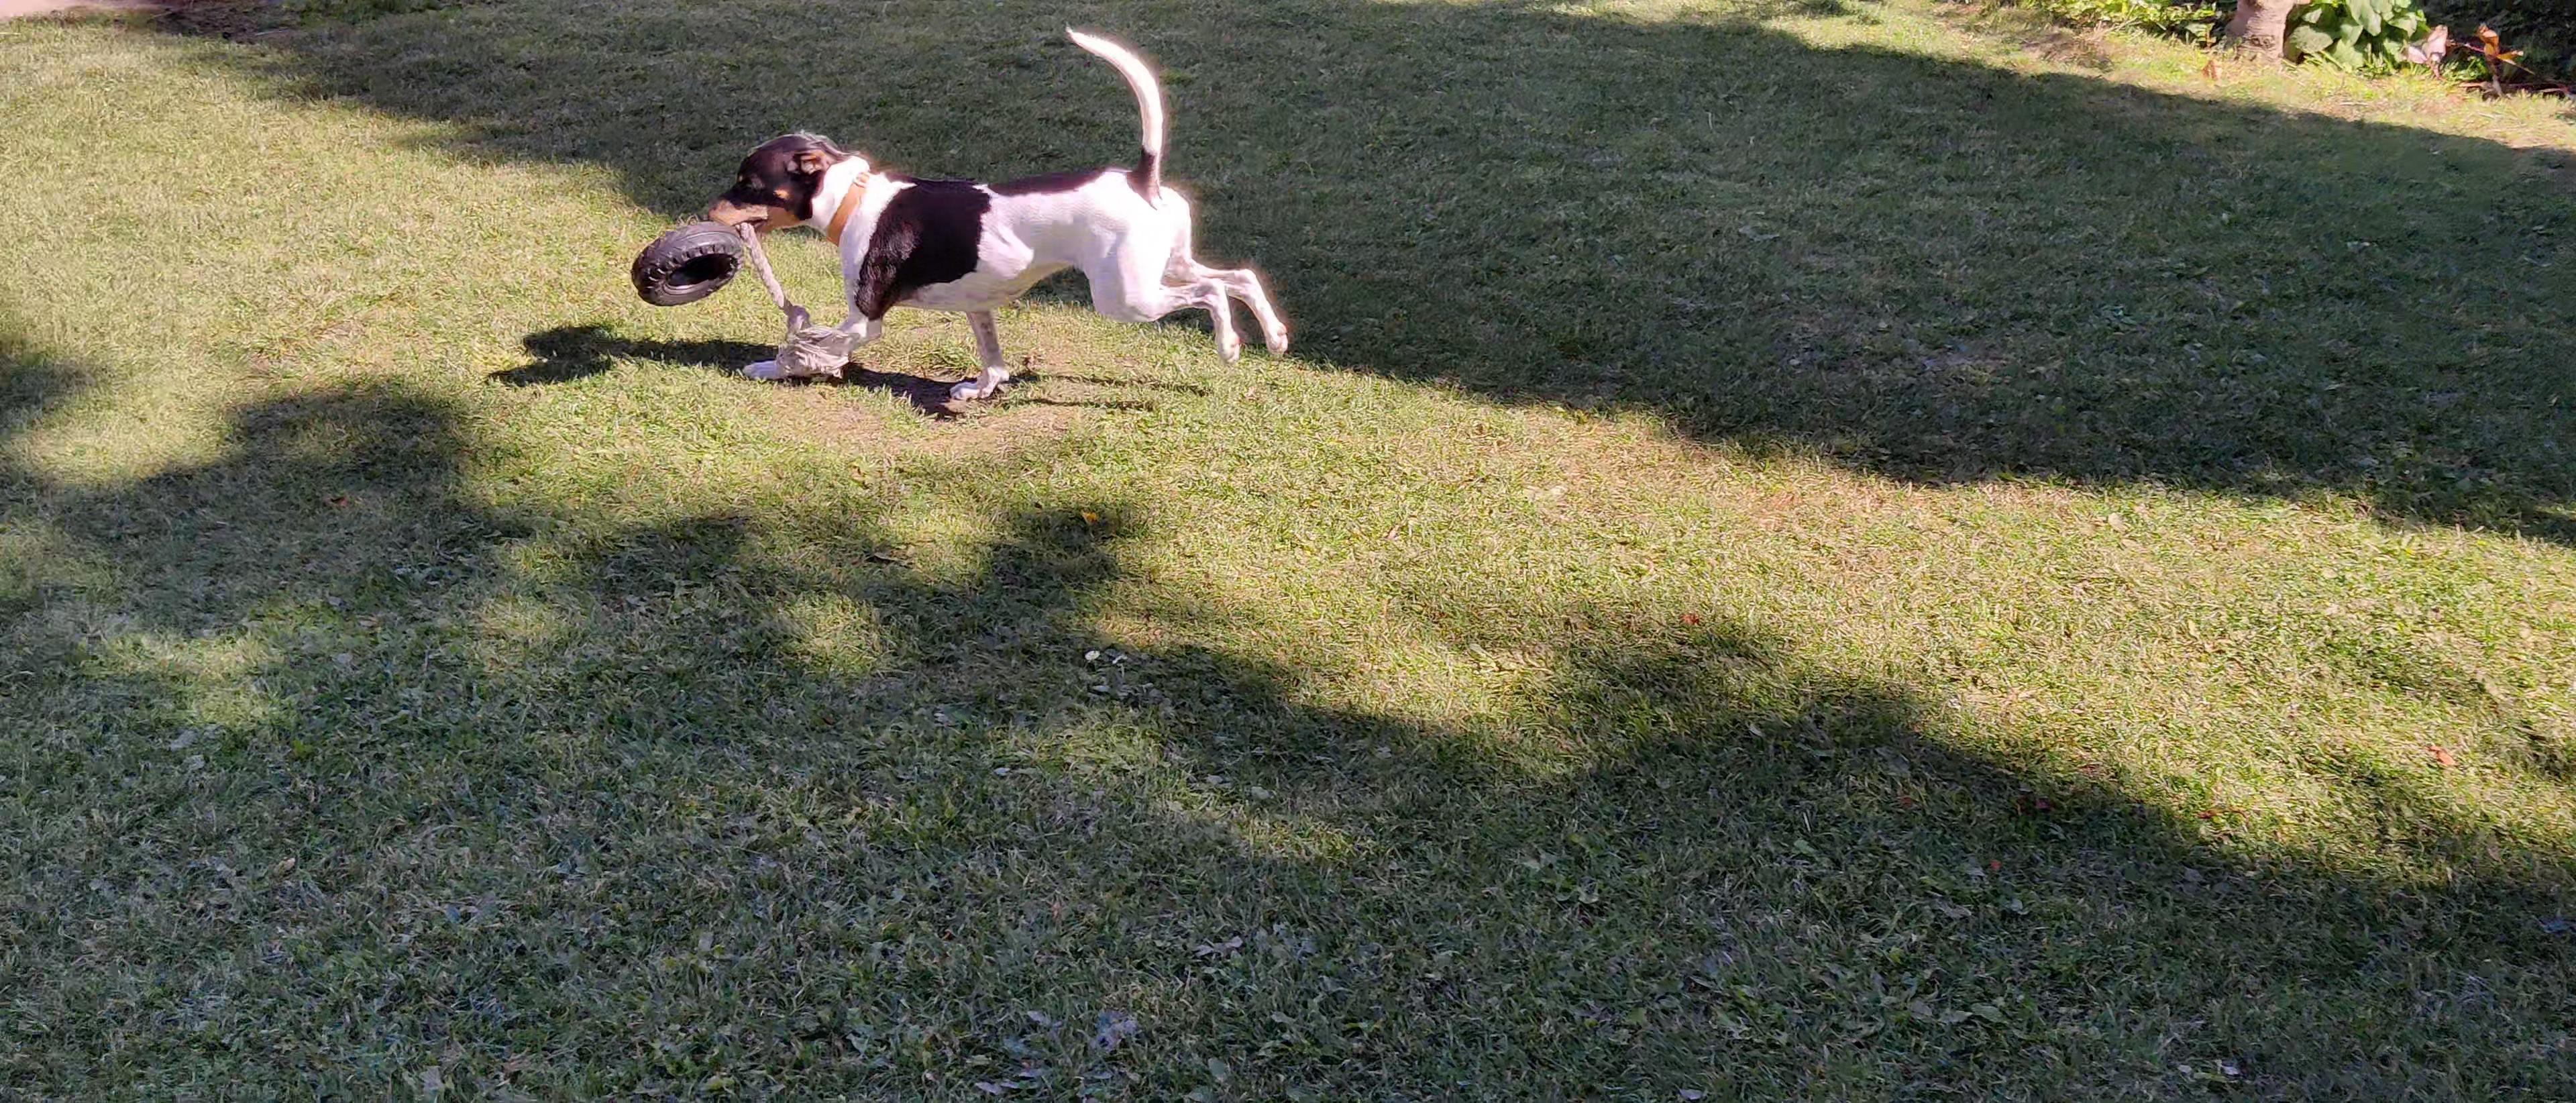Dog: (695, 23, 1303, 403)
